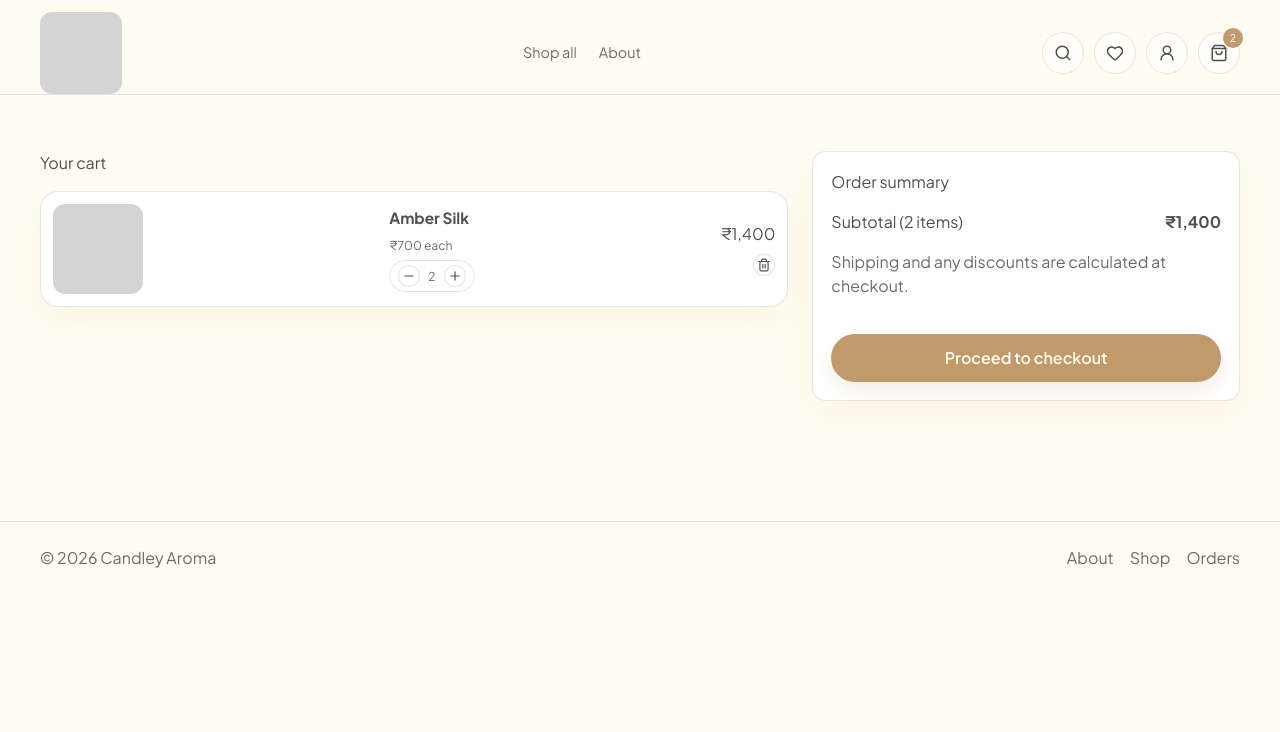
Test: cart › rolls back and shows the server error when an update fails
Step 1. Click the button named "increase" → (454, 276), box [444,265,466,287]
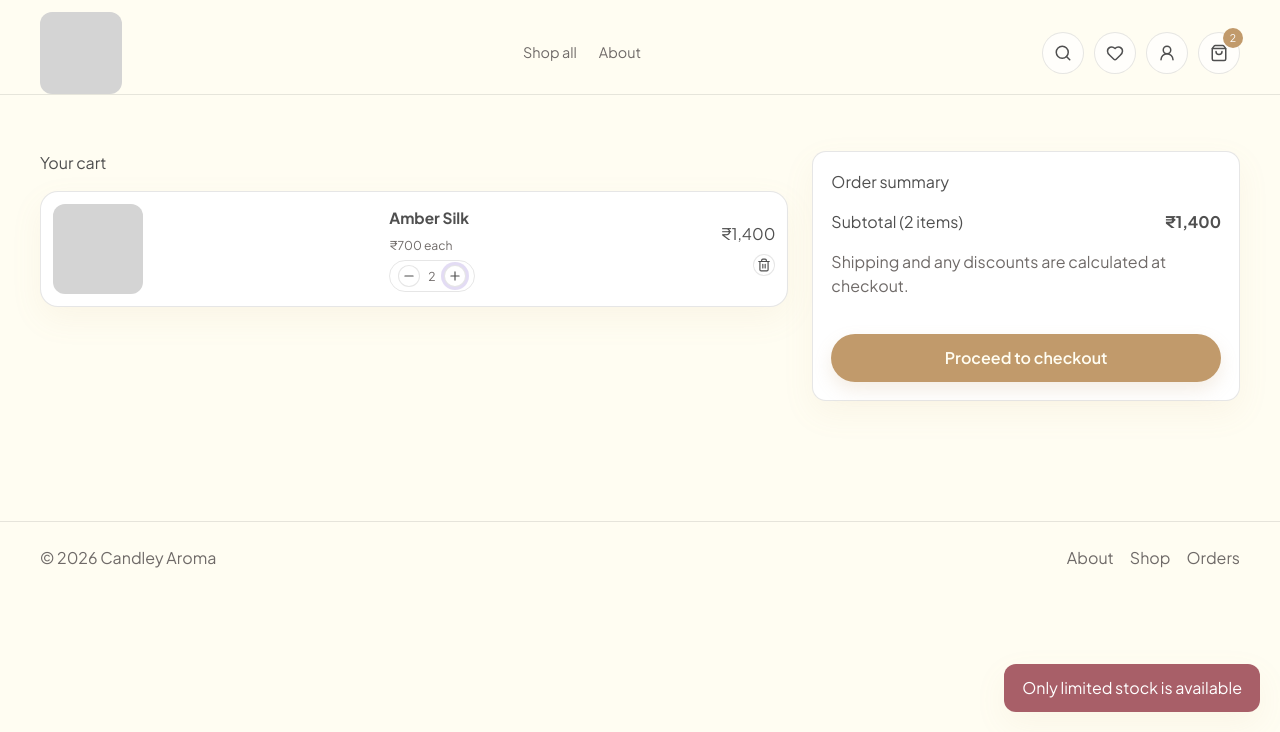
Expected: the text "2" below "₹700" is shown, [428,268,436,284]
Result: the message reads "Only limited stock is available" at [1022,677,1242,698]
